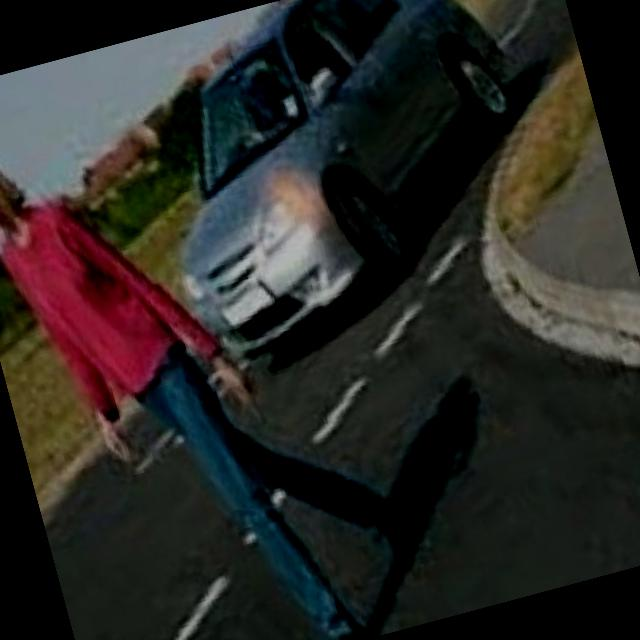Person: (0, 45, 449, 640)
